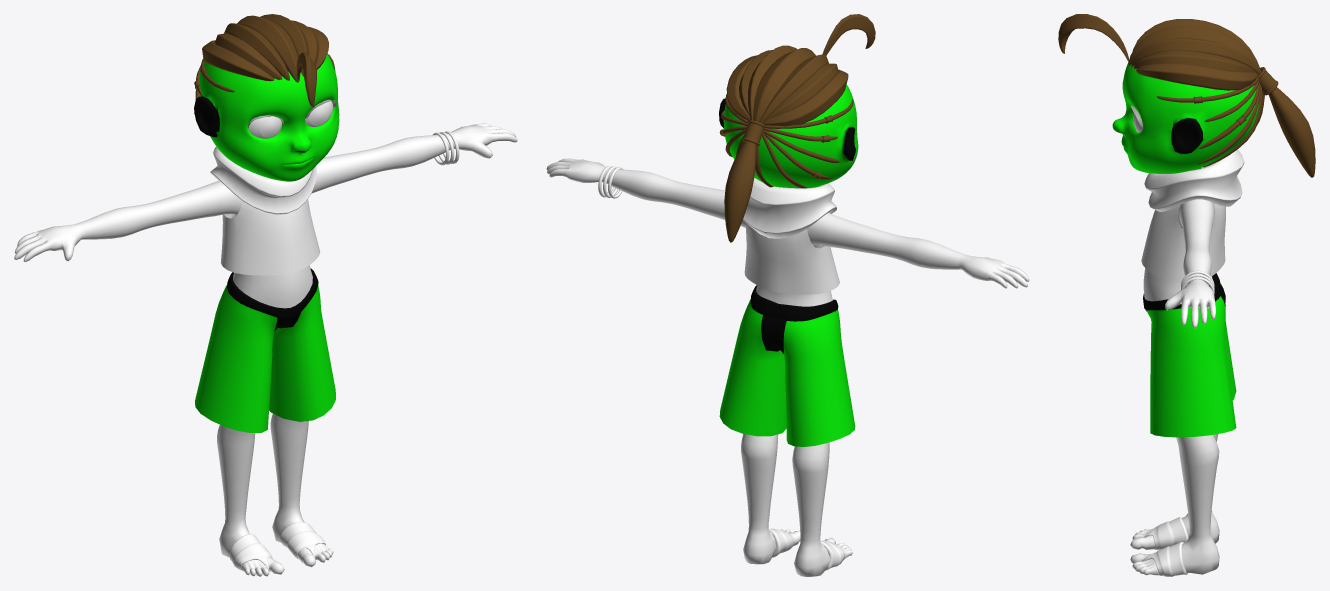
Rendered from playerCharacter.fbx.
The picture shows the model from 3 angles, left to right: view 1: azimuth 30°, elevation 25°; view 2: azimuth 150°, elevation 25°; view 3: azimuth 270°, elevation 25°; orthographic projection. The views are drawn at different scales.
Parts seen in each view (by area): view 1: pants, armsTorso, head, legs, hairTop, shirt, scarf, footWraps, hairTwigBent; view 2: pants, armsTorso, legs, hairTop, head, shirt, scarf, braids, ponytail, hairTwigBent, footWraps; view 3: pants, head, hairTop, legs, armsTorso, scarf, shirt, ponytail, braids, footWraps, hairTwigBent, hairHolder (+1 smaller).
Boxes of the visible parts, x1,y1,x2,y2 form: pants: (195, 268, 335, 432); armsTorso: (14, 123, 517, 308); head: (194, 54, 339, 181); legs: (217, 413, 333, 576); hairTop: (202, 14, 328, 82); shirt: (220, 199, 320, 275); scarf: (210, 146, 316, 215); footWraps: (230, 522, 325, 571); hairTwigBent: (296, 52, 316, 107); pants: (719, 285, 855, 446); armsTorso: (546, 158, 1029, 306); legs: (741, 434, 852, 576); hairTop: (726, 45, 848, 126); head: (719, 84, 858, 188); shirt: (744, 223, 839, 294); scarf: (743, 178, 836, 238); braids: (721, 94, 853, 188); ponytail: (724, 141, 755, 242); hairTwigBent: (822, 14, 875, 55); footWraps: (768, 528, 845, 570); pants: (1143, 273, 1236, 437); head: (1112, 62, 1259, 173); hairTop: (1128, 19, 1261, 90); legs: (1130, 434, 1219, 575); armsTorso: (1143, 167, 1215, 328); scarf: (1144, 149, 1244, 211); shirt: (1141, 204, 1225, 282); ponytail: (1268, 87, 1315, 177); braids: (1157, 77, 1264, 167); footWraps: (1143, 517, 1188, 576); hairTwigBent: (1058, 14, 1129, 62); hairHolder: (1257, 67, 1278, 95).
Size of the model in its own units: 137 by 140 by 60.65.
